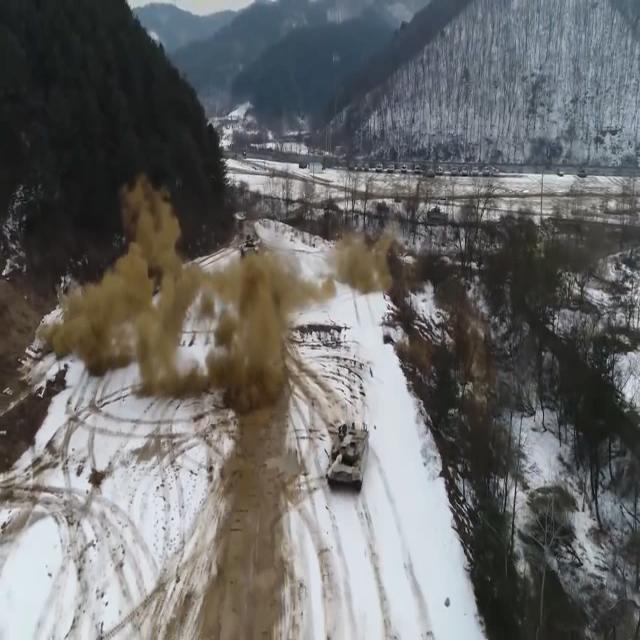korea tank: (326, 418, 370, 499)
